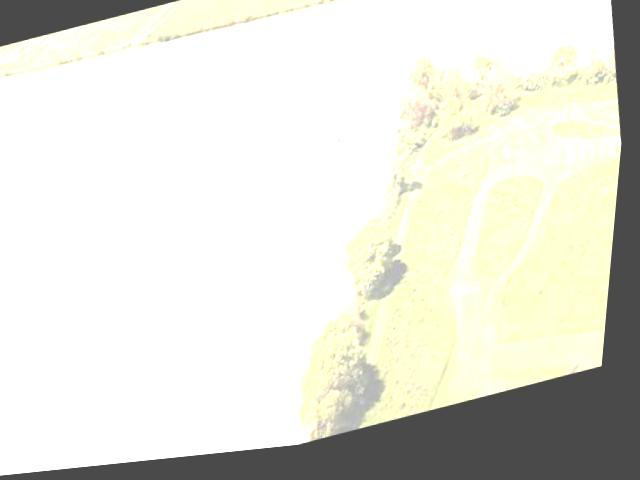iha: (289, 124, 391, 188)
